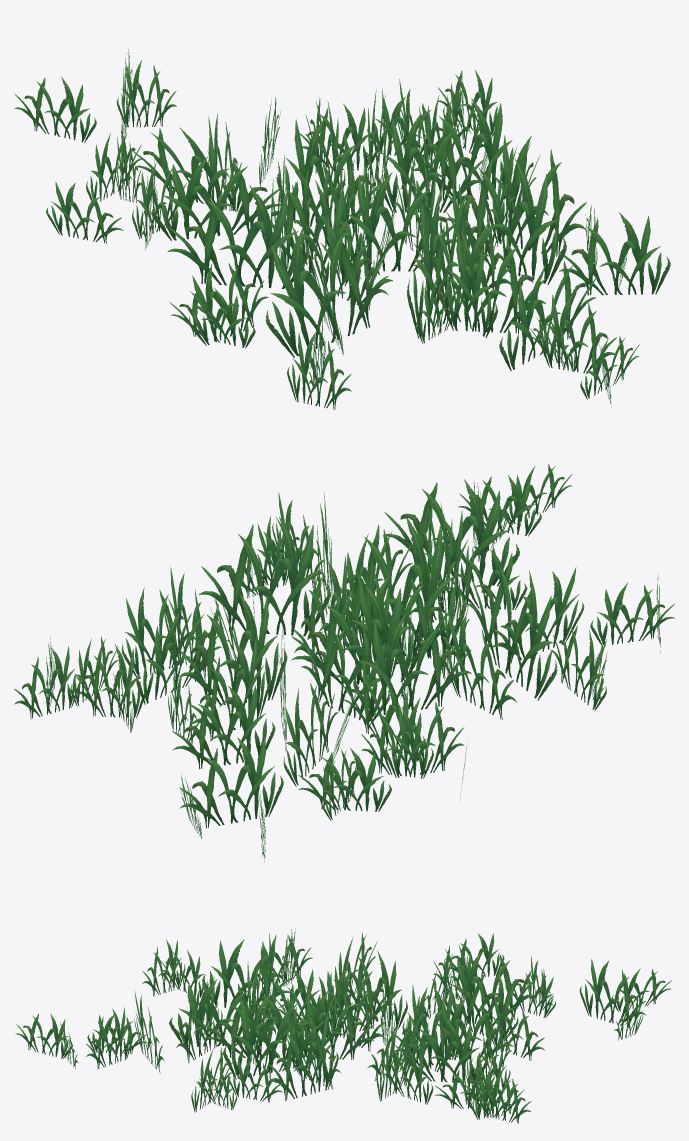
File: 2001_Plant_cao_01.FBX
The picture shows the model from 3 angles, top to bottom: view 1: azimuth 30°, elevation 25°; view 2: azimuth 150°, elevation 25°; view 3: azimuth 270°, elevation 25°; orthographic projection. The views are drawn at different scales.
Parts seen in each view (by area): view 1: 2001_Plant_cao_01; view 2: 2001_Plant_cao_01; view 3: 2001_Plant_cao_01.
Part boxes in pixels (x1,y1,x2,y2): 2001_Plant_cao_01: [14, 49, 670, 409]; 2001_Plant_cao_01: [14, 464, 674, 862]; 2001_Plant_cao_01: [15, 928, 671, 1123].
Size of the model in its own units: 585 by 209 by 1024.
